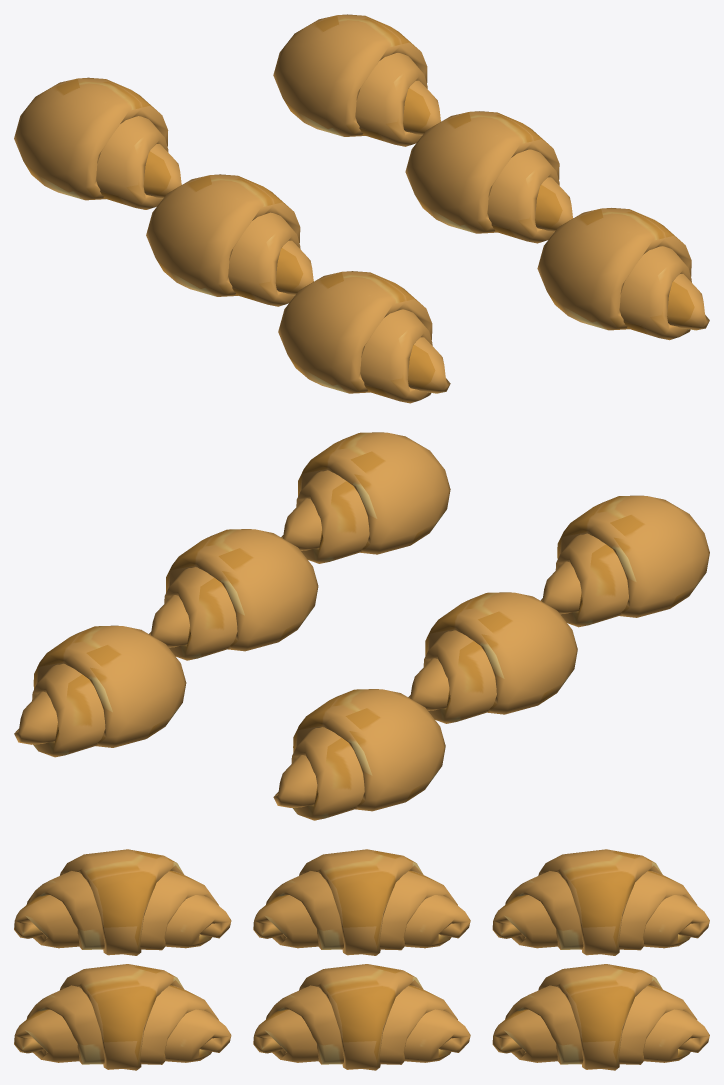
File: Cwosso2.fbx
3 views of the same model, one above another, from view 1: azimuth 30°, elevation 25°; view 2: azimuth 150°, elevation 25°; view 3: azimuth 270°, elevation 25° (orthographic). The views are drawn at different scales.
Visible parts, largest first — view 1: croissant.002; view 2: croissant.002; view 3: croissant.002.
Boxes of the visible parts, x1,y1,x2,y2 form: croissant.002: (14, 14, 709, 403); croissant.002: (14, 432, 709, 820); croissant.002: (14, 849, 709, 1070).
Size of the model in its own units: 75.92 by 17.48 by 131.
